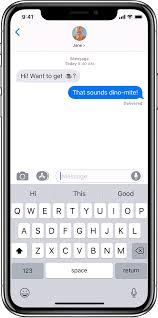iphone: (1, 1, 158, 318)
iphone10: (1, 1, 158, 318)
